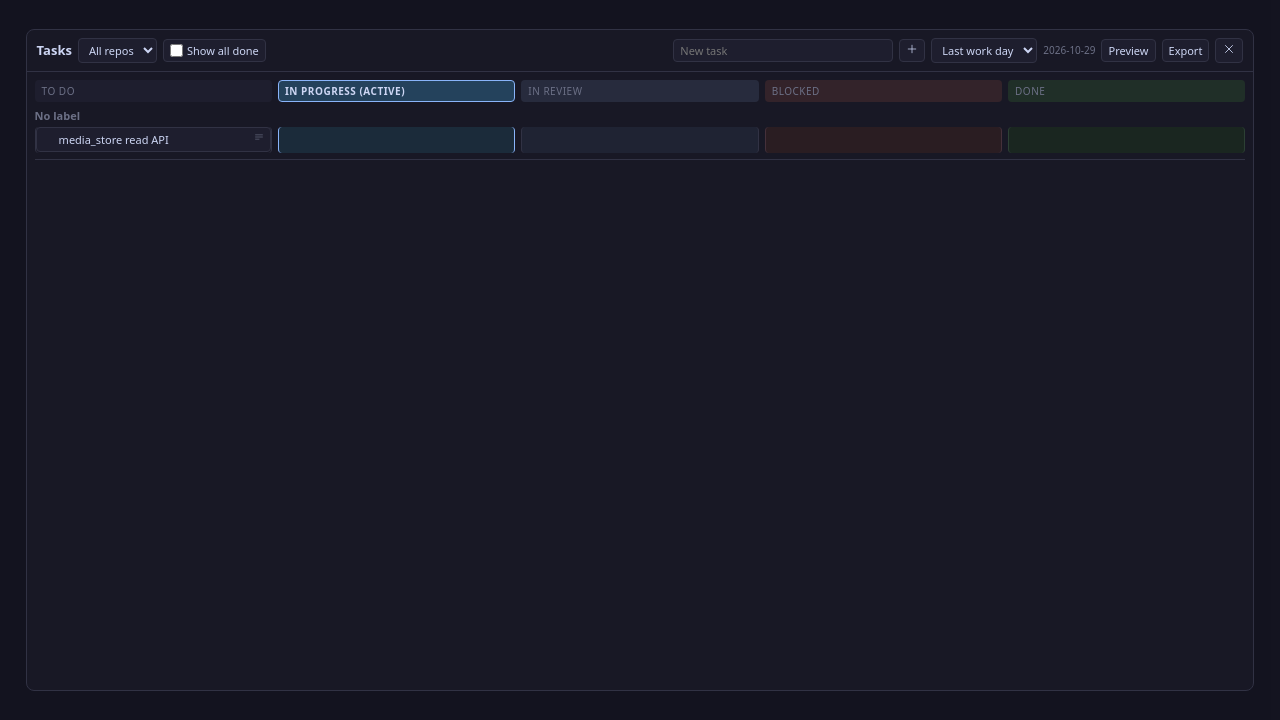
Test case: clickable links in task notes › hides the row when the notes hold no URL
The image size is (1280, 720).
Expected: the text "media_store read API" is shown, [59,132,169,147]
What coordinates should you click on to do the following:
click the button "media_store read API"
I would click on:
 (153, 139)
Its box is [36,127,271,152].
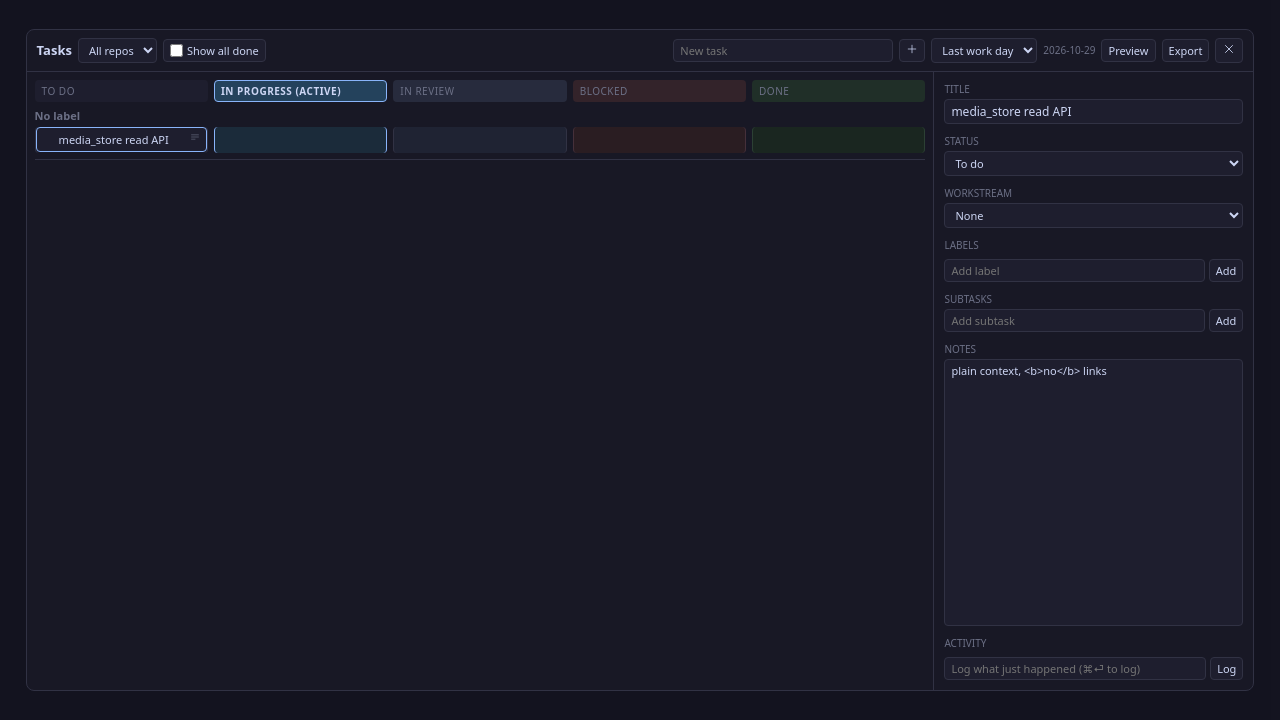
Expected: the text box with test id "detail-notes" is shown, [944,359,1243,626]
